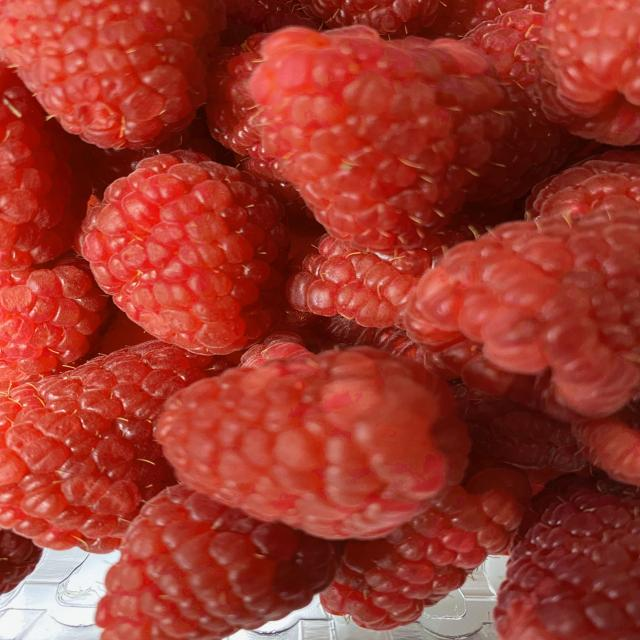raspberries: (13, 6, 624, 628)
